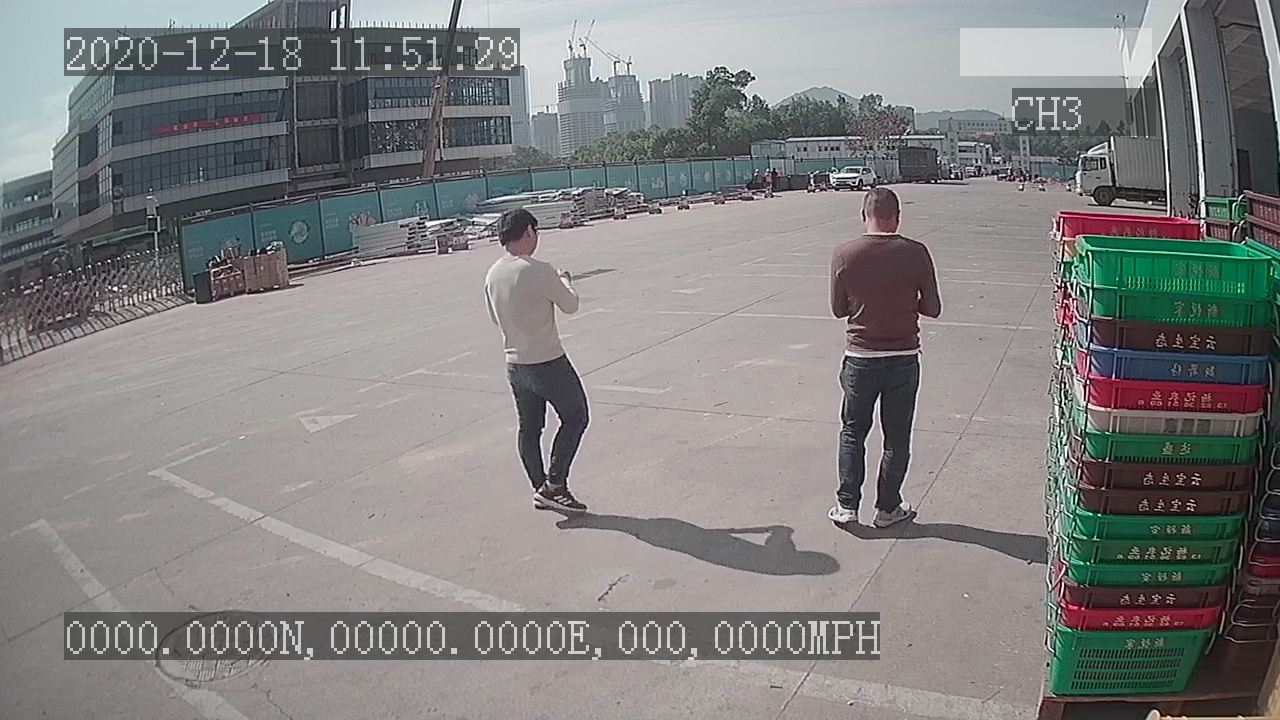person: (826, 185, 945, 531), (477, 204, 599, 522)
